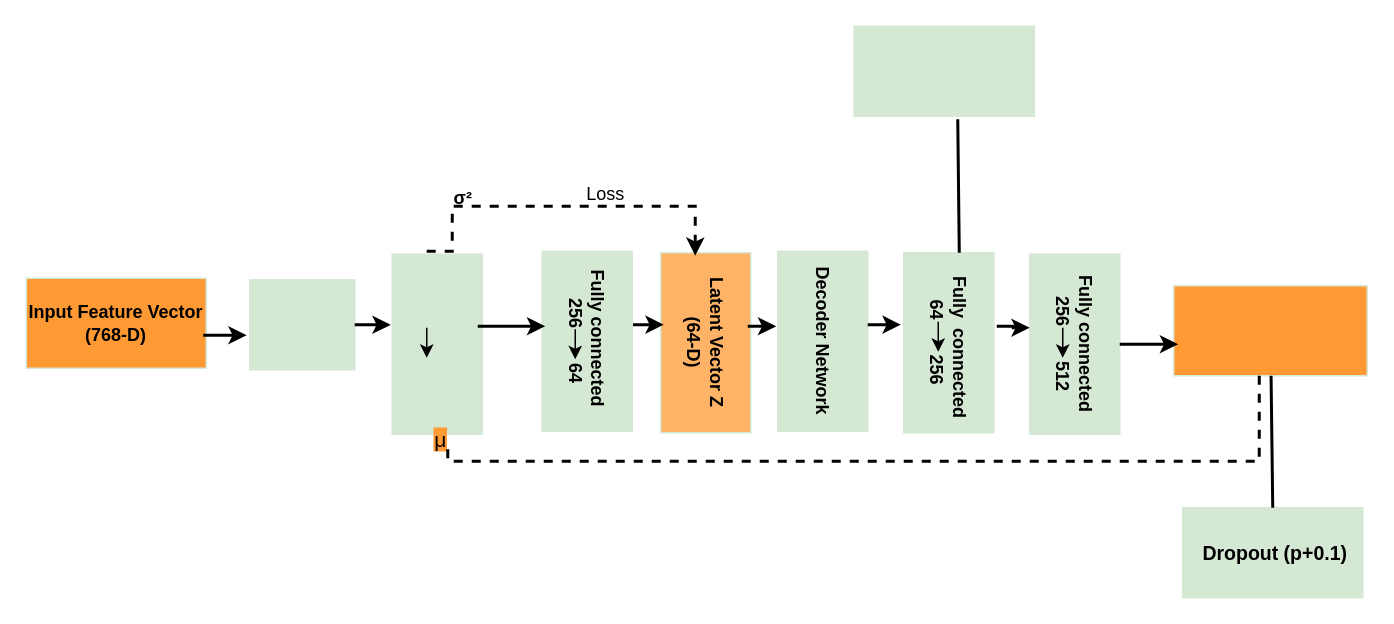
Image size: 1394x624. Some labels were removed from this diagram. Here are the shapes that lost their labels. From the top down, the centre of each, then its label:
At (943,70): "MSE + KL Divergence".
At (301,324): "Encoder".
At (436,343): "Fully connected 768 512".
At (1269,330): "Output Feature Vector (768-D)".
